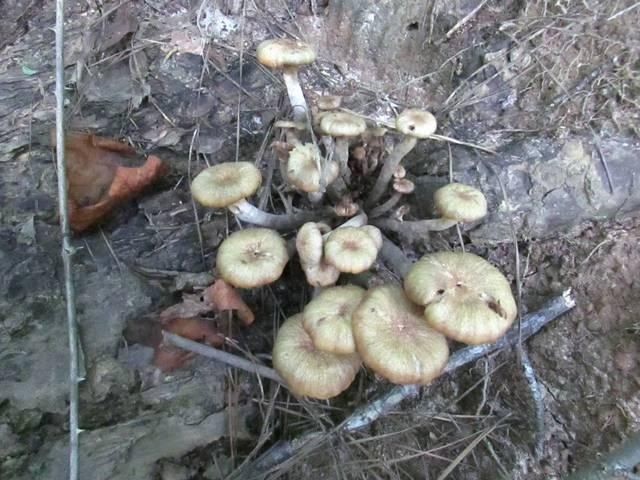Edible Mushroom: (189, 124, 519, 399), (255, 36, 316, 120)
